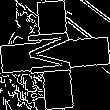M_E: (28, 30, 82, 80)
